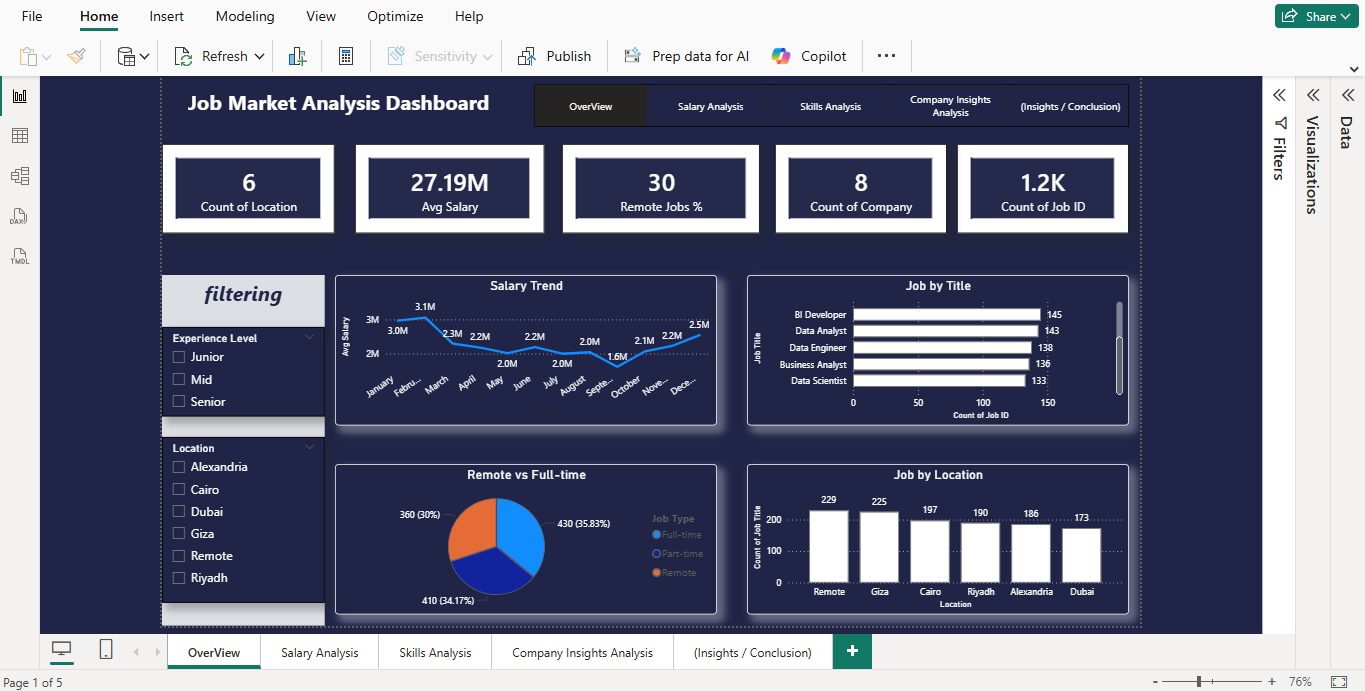

The page's visual inventory and layout, read from the dashboard file:
{"tool":"powerbi","page":{"name":"OverView","canvas":[1280,720],"ordinal":0},"visuals":[{"type":"cardVisual","fields":{"Data":["CountNonNull(Job Market Data.Job ID)"]},"box":[1041.1,89.3,224.6,116.6],"z":0},{"type":"cardVisual","fields":{"Data":["Job Market Data.Avg Salary"]},"box":[252,89.3,247.7,116.6],"z":1000},{"type":"cardVisual","fields":{"Data":["Count(Job Market Data.Company)"]},"box":[802.1,89.3,224.6,116.6],"z":2000},{"type":"cardVisual","fields":{"Data":["Count(Job Market Data.Location)"]},"box":[0,89.3,226.1,116.6],"z":3000},{"type":"cardVisual","fields":{"Data":["Job Market Data.Remote Jobs %"]},"box":[524.2,89.3,259.2,116.6],"z":4000},{"type":"textbox","box":[0,10.1,455,56.2],"z":5000},{"type":"columnChart","title":" Job by Location","fields":{"Y":["CountNonNull(Job Market Data.Job Title)"],"Category":["Job Market Data.Location"]},"box":[766.1,508.3,499.7,197.3],"z":6000},{"type":"clusteredBarChart","title":" Job by Title","fields":{"Category":["Job Market Data.Job Title"],"Y":["CountNonNull(Job Market Data.Job ID)"]},"box":[766.1,260.6,499.7,197.3],"z":7000},{"type":"pieChart","title":"Remote vs Full-time","fields":{"Category":["Job Market Data.Job Type"],"Y":["CountNonNull(Job Market Data.Job ID)"]},"box":[226.1,508.3,499.7,197.3],"z":8000},{"type":"lineChart","title":"Salary Trend","fields":{"Category":["Job Market Data.Posting Date.Variation.Date Hierarchy.Month"],"Y":["Job Market Data.Avg Salary"]},"box":[226.1,260.6,499.7,197.3],"z":9000},{"type":"textbox","box":[0,260.6,213.1,459.4],"z":10000},{"type":"slicer","fields":{"Values":["Job Market Data.Experience Level"]},"box":[0,328.3,213.1,116.6],"z":11000},{"type":"slicer","fields":{"Values":["Job Market Data.Location"]},"box":[0,472.3,213.1,217.4],"z":12000},{"type":"pageNavigator","box":[486.7,10.1,779,56.2],"z":13000}]}

Visuals, with their boxes on the page's 1280x720 design canvas (x1, y1, x2, y2). These are canvas units, not pixel positions in the 1365x691 screenshot, which may show the page scaled, cropped or inside an application window:
cardVisual - CountNonNull(Job Market Data.Job ID): {"x1": 1041, "y1": 89, "x2": 1266, "y2": 206}
cardVisual - Job Market Data.Avg Salary: {"x1": 252, "y1": 89, "x2": 500, "y2": 206}
cardVisual - Count(Job Market Data.Company): {"x1": 802, "y1": 89, "x2": 1027, "y2": 206}
cardVisual - Count(Job Market Data.Location): {"x1": 0, "y1": 89, "x2": 226, "y2": 206}
cardVisual - Job Market Data.Remote Jobs %: {"x1": 524, "y1": 89, "x2": 783, "y2": 206}
textbox: {"x1": 0, "y1": 10, "x2": 455, "y2": 66}
" Job by Location" columnChart: {"x1": 766, "y1": 508, "x2": 1266, "y2": 706}
" Job by Title" clusteredBarChart: {"x1": 766, "y1": 261, "x2": 1266, "y2": 458}
"Remote vs Full-time" pieChart: {"x1": 226, "y1": 508, "x2": 726, "y2": 706}
"Salary Trend" lineChart: {"x1": 226, "y1": 261, "x2": 726, "y2": 458}
textbox: {"x1": 0, "y1": 261, "x2": 213, "y2": 720}
slicer - Job Market Data.Experience Level: {"x1": 0, "y1": 328, "x2": 213, "y2": 445}
slicer - Job Market Data.Location: {"x1": 0, "y1": 472, "x2": 213, "y2": 690}
pageNavigator: {"x1": 487, "y1": 10, "x2": 1266, "y2": 66}
